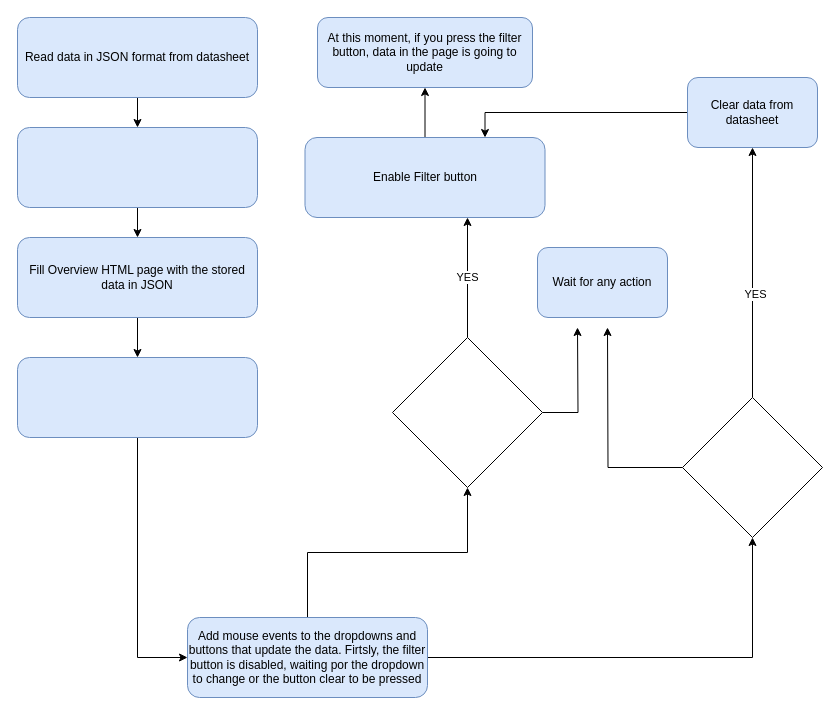
This 840x715 diagram has some shape labels left out. Each missing label, with the centre of its shape:
"button clear is pressed?" goes at point (752, 467).
"Create input dropdown using JSON data" goes at point (137, 167).
"Dropdown value is changed" goes at point (467, 412).
"Fill Batches HTML page with the stored data in JSON" goes at point (137, 397).
